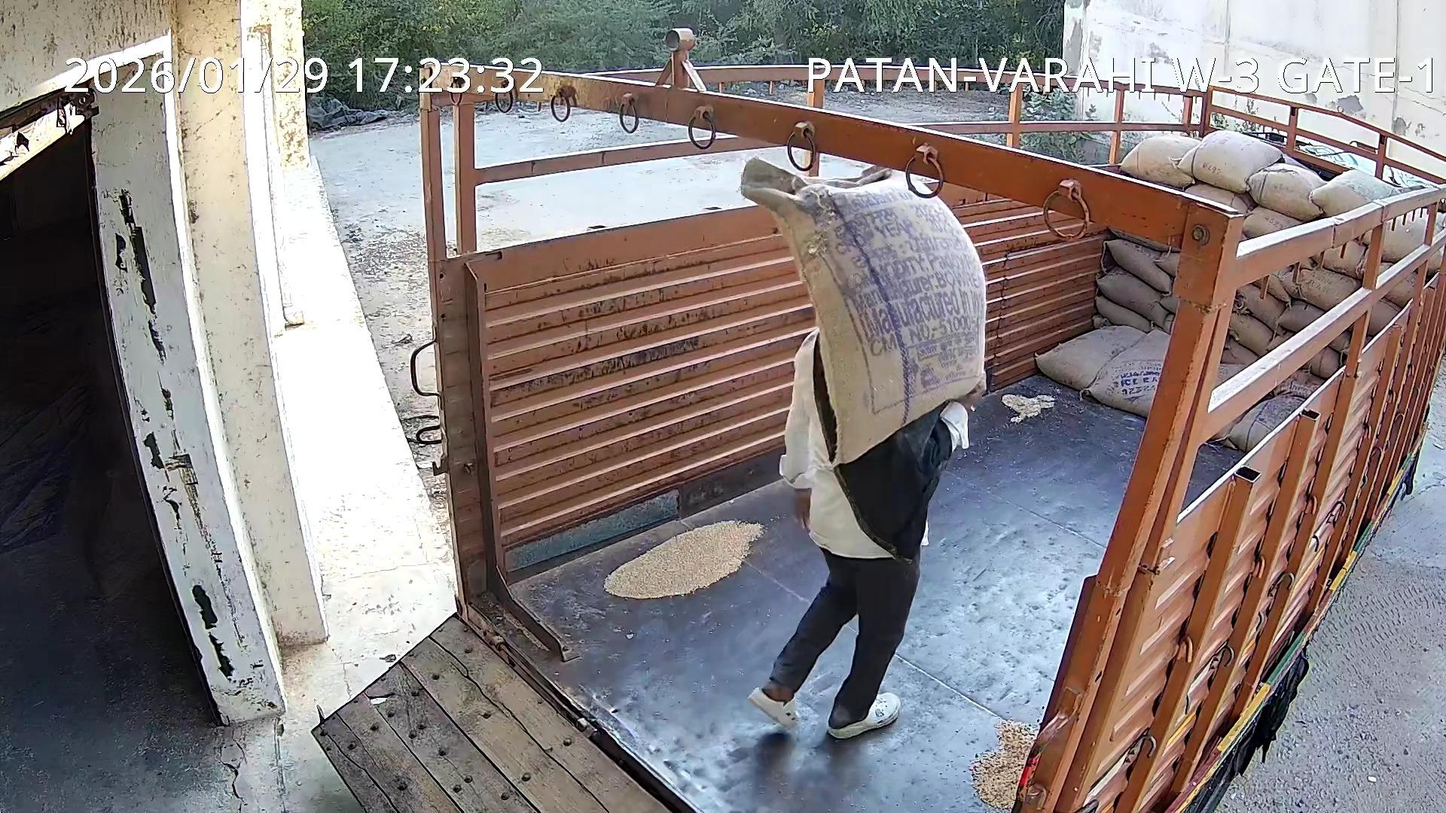Sack: (740, 158, 987, 467)
